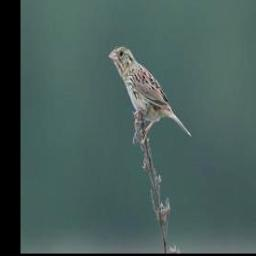Sparrow: (110, 43, 193, 145)
